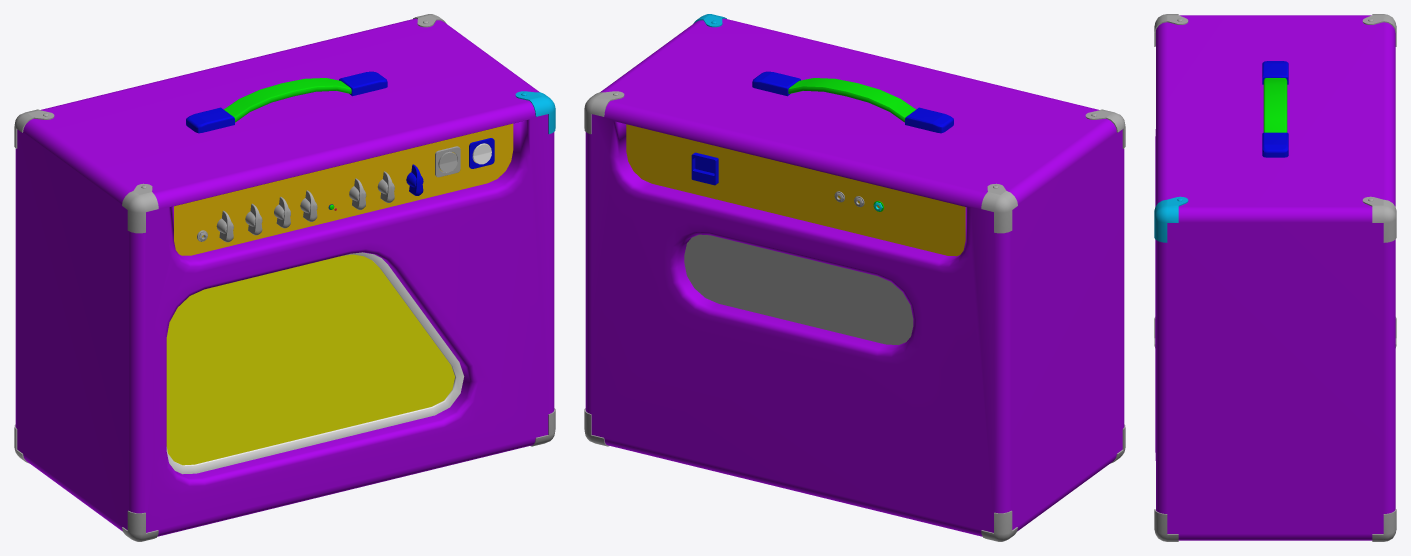
The model's file is AMP_MK_002.fbx.
The picture shows the model from 3 angles, left to right: view 1: azimuth 30°, elevation 25°; view 2: azimuth 150°, elevation 25°; view 3: azimuth 270°, elevation 25°; orthographic projection. The views are drawn at different scales.
Parts seen in each view (by area): view 1: Case_Combined, Extruded_Panels, Corner_Cap_Metal_001 (×3), Handle_Strap, Handle_Housing; view 2: Case_Combined, Extruded_Panels, Corner_Cap_Metal_001 (×3), Handle_Strap, Handle_Housing, Ac_Plug_Housing; view 3: Case_Combined, Corner_Cap_Metal_001 (×6), Handle_Strap, Handle_Housing.
Boxes of the visible parts, x1,y1,x2,y2 form: Case_Combined: (15, 18, 554, 536); Extruded_Panels: (166, 123, 513, 465); Corner_Cap_Metal_001 (×3): (122, 91, 555, 541); Handle_Strap: (224, 78, 351, 122); Handle_Housing: (186, 71, 387, 133); Case_Combined: (585, 18, 1124, 536); Extruded_Panels: (626, 124, 965, 345); Corner_Cap_Metal_001 (×3): (584, 91, 1017, 541); Handle_Strap: (788, 78, 915, 122); Handle_Housing: (752, 71, 953, 133); Ac_Plug_Housing: (691, 152, 718, 185); Case_Combined: (1155, 15, 1395, 540); Corner_Cap_Metal_001 (×6): (1154, 14, 1396, 541); Handle_Strap: (1263, 78, 1287, 132); Handle_Housing: (1262, 61, 1288, 157).
Size of the model in its own units: 20.85 by 17.32 by 10.6.
